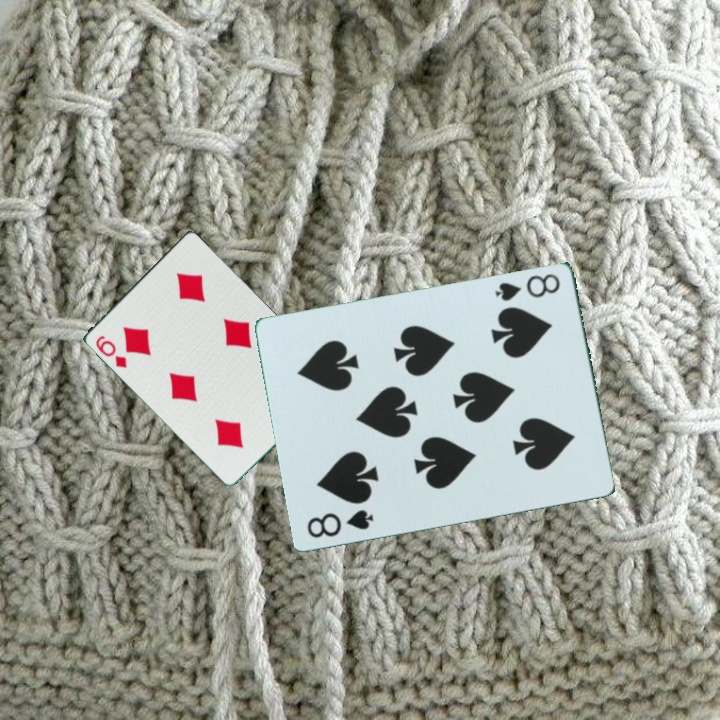6d: (91, 332, 129, 371)
8s: (303, 505, 377, 541), (492, 269, 564, 304)
